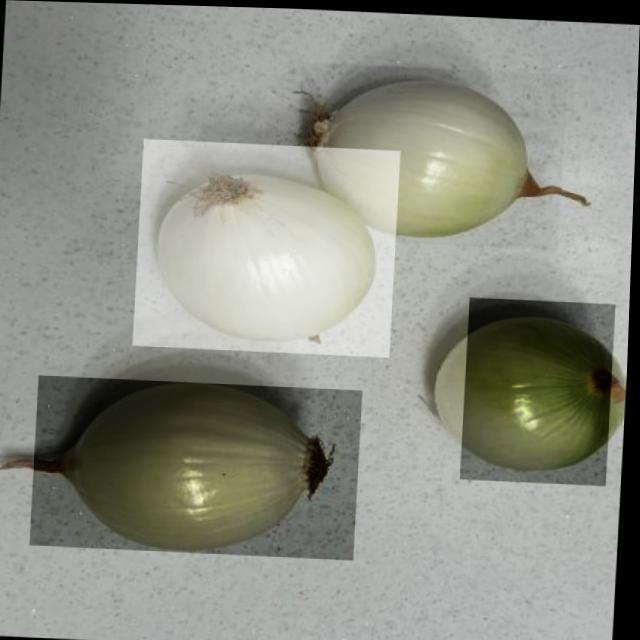Onion: (33, 374, 365, 558), (134, 138, 402, 354), (294, 60, 568, 247), (463, 294, 618, 482)
